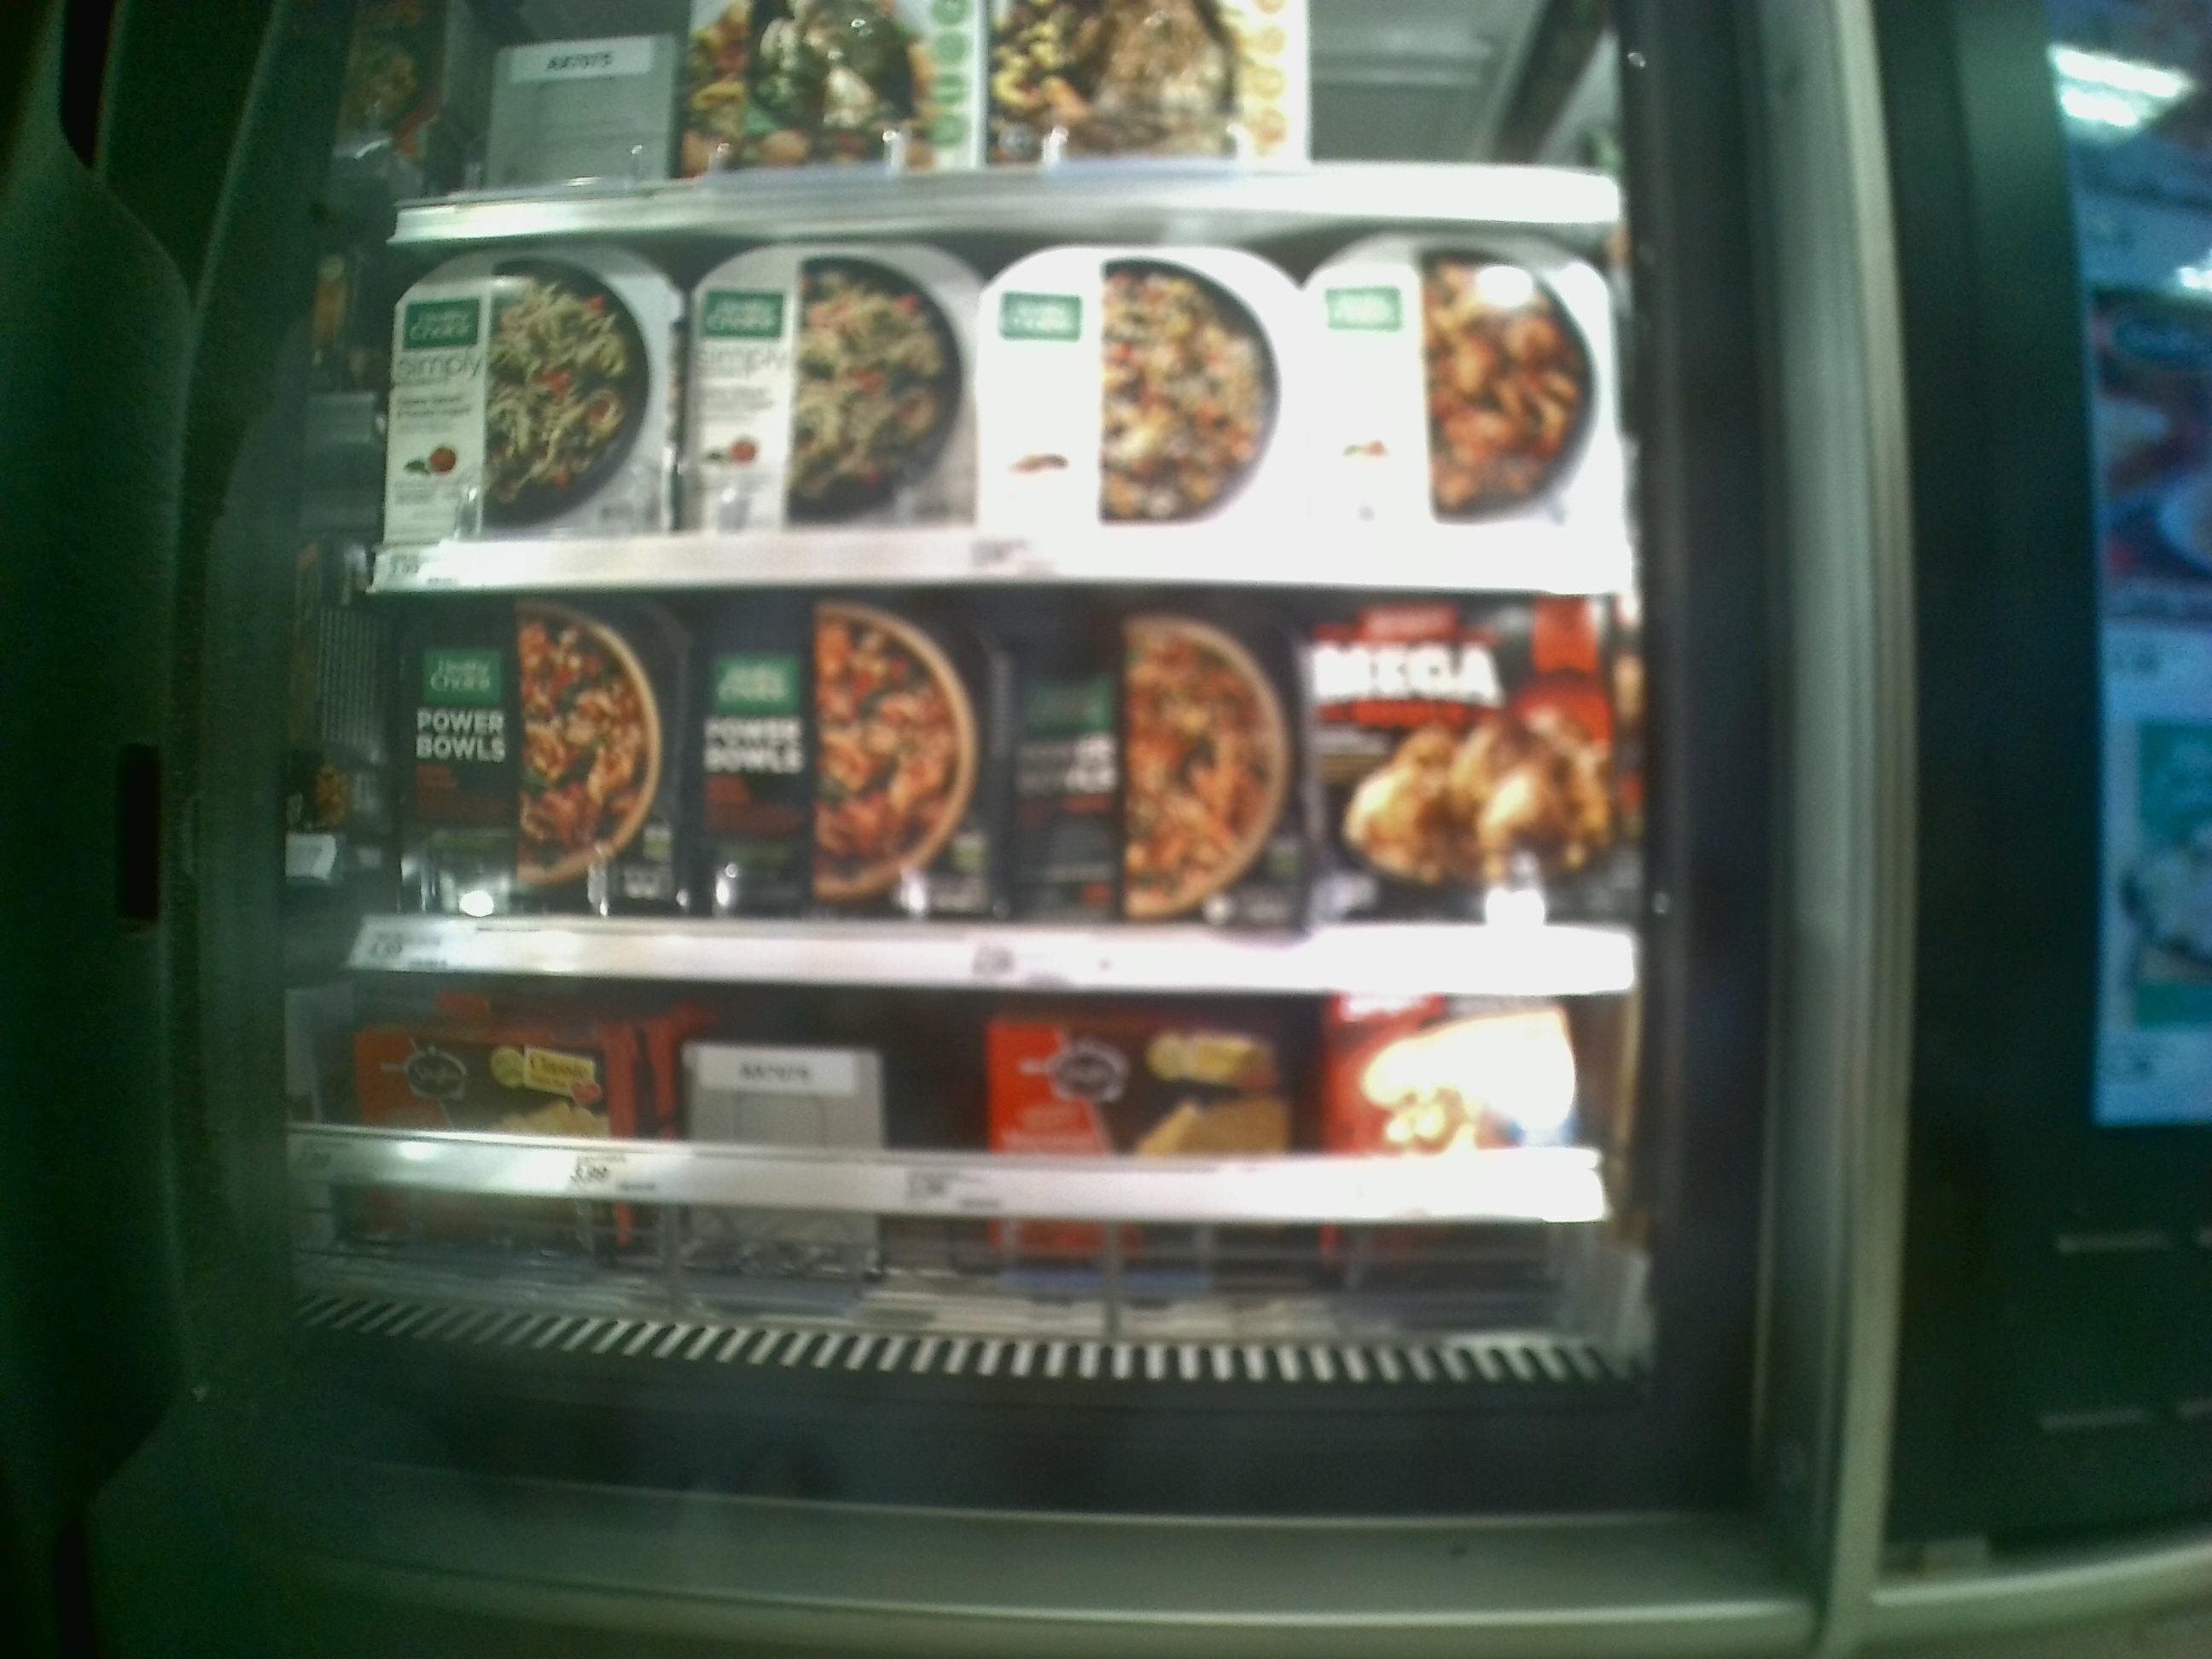shelf: (308, 974, 1656, 1434), (361, 575, 1639, 997), (343, 209, 1639, 598)
